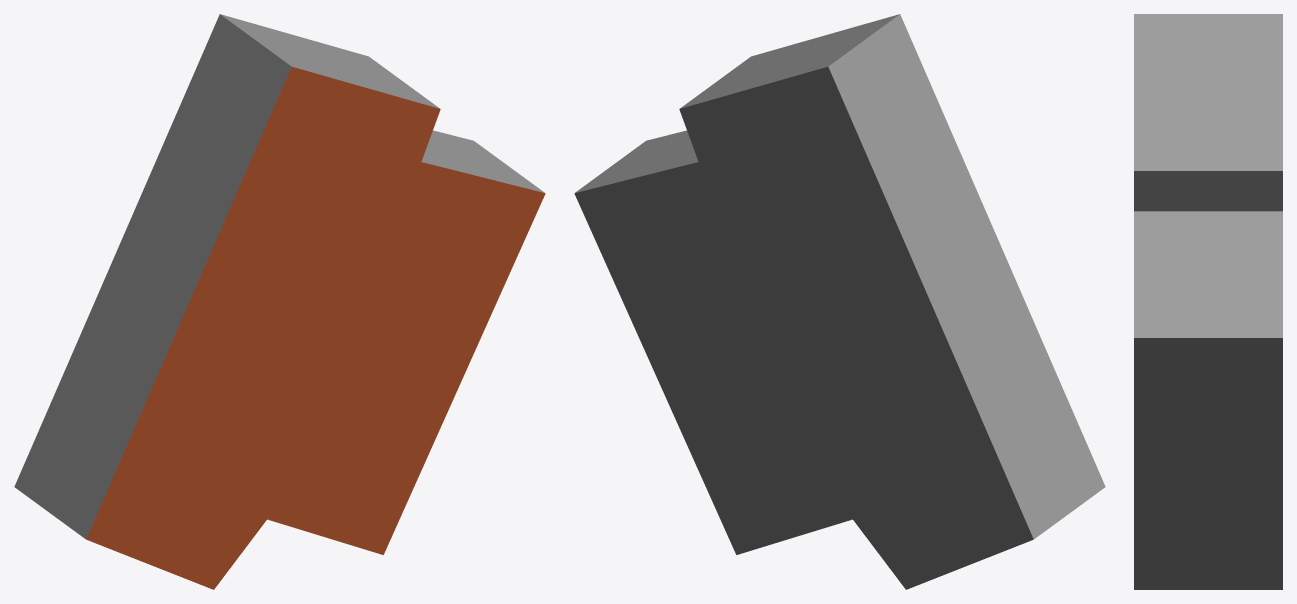
The model's file is construction_4007_assumed_A_Casa_h6m.obj.
The picture shows the model from 3 angles, left to right: view 1: azimuth 30°, elevation 25°; view 2: azimuth 150°, elevation 25°; view 3: azimuth 270°, elevation 25°; orthographic projection. The views are drawn at different scales.
Visible parts, largest first — view 1: construction_4007_assumed_A_Casa; view 2: construction_4007_assumed_A_Casa; view 3: construction_4007_assumed_A_Casa.
Boxes of the visible parts, x1,y1,x2,y2 form: construction_4007_assumed_A_Casa: [14, 14, 545, 589]; construction_4007_assumed_A_Casa: [574, 14, 1105, 589]; construction_4007_assumed_A_Casa: [1134, 14, 1282, 589].
Bounding box in the file's own units: 22.15 × 23.54 × 6.
